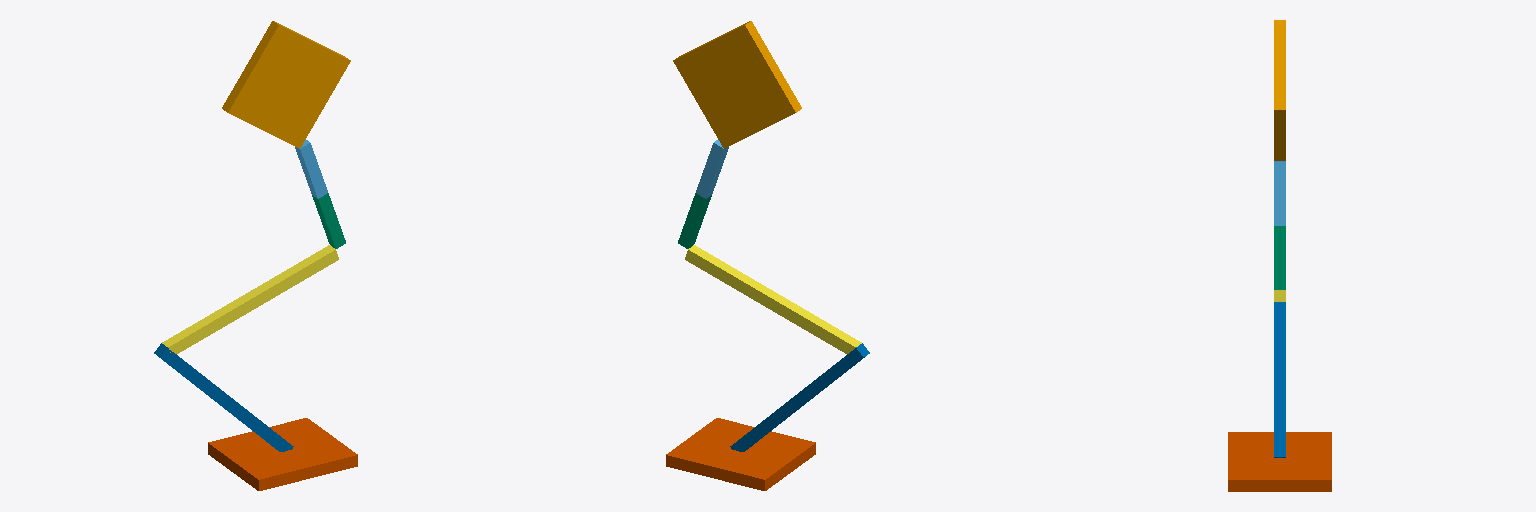
robot.urdf — waker_wire1:
<?xml version="1.0" ?>
<robot name="waker_wire1">

<material name="silver">
  <color rgba="0.700 0.700 0.700 1.000"/>
</material>

<link name="base_link">
  <inertial>
    <origin xyz="-0.017336353404053026 0.008380367658542092 0.08202144363778728" rpy="0 0 0"/>
    <mass value="0.0628"/>
    <inertia ixx="8.504166666671077e-06" iyy="1.6746666666667934e-05" izz="8.504166666666577e-06" ixy="5.590417451878382e-20" iyz="-3.3881317890172014e-20" ixz="-3.3881317890172014e-19"/>
  </inertial>
  <visual>
    <origin xyz="0 0 0" rpy="0 0 0"/>
    <geometry>
      <mesh filename="meshes/base_link.stl" scale="0.001 0.001 0.001"/>
    </geometry>
    <material name="silver"/>
    <material/>
  </visual>
  <collision>
    <origin xyz="0 0 0" rpy="0 0 0"/>
    <geometry>
      <mesh filename="meshes/base_link.stl" scale="0.001 0.001 0.001"/>
    </geometry>
  </collision>
</link>

<link name="Component21">
  <inertial>
    <origin xyz="0.006427450412134104 3.6765854209697135e-07 -0.011009225424180535" rpy="0 0 0"/>
    <mass value="0.004906249999999999"/>
    <inertia ixx="2.398402270796365e-07" iyy="2.657552083333407e-07" izz="4.635768958706576e-08" ixy="7.940933880509066e-22" iyz="-2.117582368135751e-22" ixz="7.540346534097028e-08"/>
  </inertial>
  <visual>
    <origin xyz="0.012542 -0.00838 -0.054147" rpy="0 0 0"/>
    <geometry>
      <mesh filename="meshes/Component21.stl" scale="0.001 0.001 0.001"/>
    </geometry>
    <material name="silver"/>
    <material/>
  </visual>
  <collision>
    <origin xyz="0.012542 -0.00838 -0.054147" rpy="0 0 0"/>
    <geometry>
      <mesh filename="meshes/Component21.stl" scale="0.001 0.001 0.001"/>
    </geometry>
  </collision>
</link>

<link name="Component31">
  <inertial>
    <origin xyz="0.00406305377101254 3.6765854209697135e-07 -0.01182086846708448" rpy="0 0 0"/>
    <mass value="0.004906249999999999"/>
    <inertia ixx="2.398402270796005e-07" iyy="2.6575520833332864e-07" izz="4.635768958706253e-08" ixy="1.852884572118782e-22" iyz="-3.1763735522036263e-22" ixz="7.540346534095974e-08"/>
  </inertial>
  <visual>
    <origin xyz="0.002052 -0.00838 -0.031316" rpy="0 0 0"/>
    <geometry>
      <mesh filename="meshes/Component31.stl" scale="0.001 0.001 0.001"/>
    </geometry>
    <material name="silver"/>
    <material/>
  </visual>
  <collision>
    <origin xyz="0.002052 -0.00838 -0.031316" rpy="0 0 0"/>
    <geometry>
      <mesh filename="meshes/Component31.stl" scale="0.001 0.001 0.001"/>
    </geometry>
  </collision>
</link>

<link name="Component41">
  <inertial>
    <origin xyz="-0.03726783518660976 3.6765854209523663e-07 -0.014743865575312858" rpy="0 0 0"/>
    <mass value="0.0157"/>
    <inertia ixx="8.626378418011783e-07" iyy="8.406041666666212e-06" izz="7.608820491531551e-06" ixy="1.2705494208814505e-20" iyz="-2.752857078576476e-21" ixz="-2.4522971397798566e-06"/>
  </inertial>
  <visual>
    <origin xyz="-0.00371 -0.00838 -0.006861" rpy="0 0 0"/>
    <geometry>
      <mesh filename="meshes/Component41.stl" scale="0.001 0.001 0.001"/>
    </geometry>
    <material name="silver"/>
    <material/>
  </visual>
  <collision>
    <origin xyz="-0.00371 -0.00838 -0.006861" rpy="0 0 0"/>
    <geometry>
      <mesh filename="meshes/Component41.stl" scale="0.001 0.001 0.001"/>
    </geometry>
  </collision>
</link>

<link name="Component51">
  <inertial>
    <origin xyz="0.026749405908062317 3.676585420917672e-07 -0.02984478219934119" rpy="0 0 0"/>
    <mass value="0.0157"/>
    <inertia ixx="4.170845245337266e-06" iyy="8.406041666667526e-06" izz="4.300613087997561e-06" ixy="4.658681209898652e-20" iyz="-6.776263578034403e-21" ixz="4.16980772031708e-06"/>
  </inertial>
  <visual>
    <origin xyz="0.072371 -0.00838 0.017872" rpy="0 0 0"/>
    <geometry>
      <mesh filename="meshes/Component51.stl" scale="0.001 0.001 0.001"/>
    </geometry>
    <material name="silver"/>
    <material/>
  </visual>
  <collision>
    <origin xyz="0.072371 -0.00838 0.017872" rpy="0 0 0"/>
    <geometry>
      <mesh filename="meshes/Component51.stl" scale="0.001 0.001 0.001"/>
    </geometry>
  </collision>
</link>

<link name="Component61">
  <inertial>
    <origin xyz="-0.040984102402381935 -0.005880632341457921 -0.06648262588045885" rpy="0 0 0"/>
    <mass value="0.07064999999999999"/>
    <inertia ixx="9.567900130145373e-06" iyy="1.2069374999997874e-05" izz="2.1341474869845365e-05" ixy="3.1170812458958252e-19" iyz="-4.743384504624082e-20" ixz="-9.160083010979574e-08"/>
  </inertial>
  <visual>
    <origin xyz="-0.022112 -0.014261 0.011079" rpy="0 0 0"/>
    <geometry>
      <mesh filename="meshes/Component61.stl" scale="0.001 0.001 0.001"/>
    </geometry>
    <material name="silver"/>
    <material/>
  </visual>
  <collision>
    <origin xyz="-0.022112 -0.014261 0.011079" rpy="0 0 0"/>
    <geometry>
      <mesh filename="meshes/Component61.stl" scale="0.001 0.001 0.001"/>
    </geometry>
  </collision>
</link>

<joint name="Revolute_1" type="continuous">
  <origin xyz="-0.012542 0.00838 0.054147" rpy="0 0 0"/>
  <parent link="base_link"/>
  <child link="Component21"/>
  <axis xyz="0.0 1.0 -0.0"/>
</joint>
<transmission name="Revolute_1_tran">
  <type>transmission_interface/SimpleTransmission</type>
  <joint name="Revolute_1">
    <hardwareInterface>PositionJointInterface</hardwareInterface>
  </joint>
  <actuator name="Revolute_1_actr">
    <hardwareInterface>PositionJointInterface</hardwareInterface>
    <mechanicalReduction>1</mechanicalReduction>
  </actuator>
</transmission>

<joint name="Rigid_2" type="fixed">
  <origin xyz="0.01049 0.0 -0.022831" rpy="0 0 0"/>
  <parent link="Component21"/>
  <child link="Component31"/>
</joint>

<joint name="Revolute_4" type="continuous">
  <origin xyz="0.005762 0.0 -0.024455" rpy="0 0 0"/>
  <parent link="Component31"/>
  <child link="Component41"/>
  <axis xyz="0.0 1.0 -0.0"/>
</joint>
<transmission name="Revolute_4_tran">
  <type>transmission_interface/SimpleTransmission</type>
  <joint name="Revolute_4">
    <hardwareInterface>PositionJointInterface</hardwareInterface>
  </joint>
  <actuator name="Revolute_4_actr">
    <hardwareInterface>PositionJointInterface</hardwareInterface>
    <mechanicalReduction>1</mechanicalReduction>
  </actuator>
</transmission>

<joint name="Revolute_5" type="continuous">
  <origin xyz="-0.076081 0.0 -0.024733" rpy="0 0 0"/>
  <parent link="Component41"/>
  <child link="Component51"/>
  <axis xyz="0.0 1.0 -0.0"/>
</joint>
<transmission name="Revolute_5_tran">
  <type>transmission_interface/SimpleTransmission</type>
  <joint name="Revolute_5">
    <hardwareInterface>PositionJointInterface</hardwareInterface>
  </joint>
  <actuator name="Revolute_5_actr">
    <hardwareInterface>PositionJointInterface</hardwareInterface>
    <mechanicalReduction>1</mechanicalReduction>
  </actuator>
</transmission>

<joint name="Rigid_6" type="fixed">
  <origin xyz="0.094483 0.005881 0.006793" rpy="0 0 0"/>
  <parent link="Component51"/>
  <child link="Component61"/>
</joint>

</robot>

--- Facts derived from the render (not from the file) ---
Views: 3 orthographic renders of the robot side by side, from view 1: azimuth 30°, elevation 25°; view 2: azimuth 150°, elevation 25°; view 3: azimuth 270°, elevation 25°.
Robot: waker_wire1 — 6 links, 5 joints (3 continuous, 2 fixed); root link base_link; default pose: every joint at zero.
Visible links, largest first — view 1: base_link, Component61, Component41, Component51, Component21, Component31; view 2: base_link, Component61, Component41, Component51, Component21, Component31; view 3: Component61, Component51, base_link, Component21, Component31.
Boxes of the visible links, x1=… form: base_link: x1=222, y1=21, x2=350, y2=148; Component61: x1=208, y1=418, x2=357, y2=490; Component41: x1=162, y1=245, x2=338, y2=353; Component51: x1=154, y1=343, x2=293, y2=451; Component21: x1=295, y1=140, x2=327, y2=198; Component31: x1=312, y1=193, x2=345, y2=248; base_link: x1=673, y1=21, x2=801, y2=148; Component61: x1=666, y1=418, x2=815, y2=490; Component41: x1=685, y1=245, x2=861, y2=353; Component51: x1=730, y1=343, x2=869, y2=451; Component21: x1=696, y1=140, x2=728, y2=198; Component31: x1=678, y1=193, x2=711, y2=248; Component61: x1=1228, y1=432, x2=1331, y2=491; Component51: x1=1274, y1=302, x2=1285, y2=457; base_link: x1=1274, y1=20, x2=1285, y2=160; Component21: x1=1274, y1=161, x2=1285, y2=225; Component31: x1=1274, y1=226, x2=1285, y2=289.
Bounding box of the posed robot: 0.0864 × 0.04 × 0.1901 m (x, y, z).
Meshes: 6 distinct files referenced, 6 mesh visuals loaded (6 binary STL).